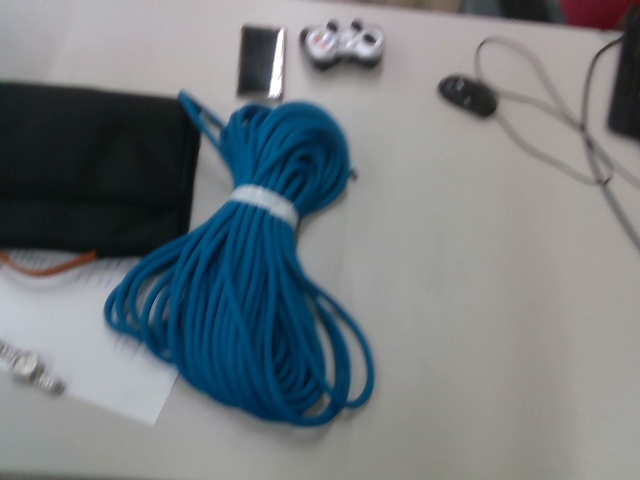rope: (99, 84, 377, 429)
